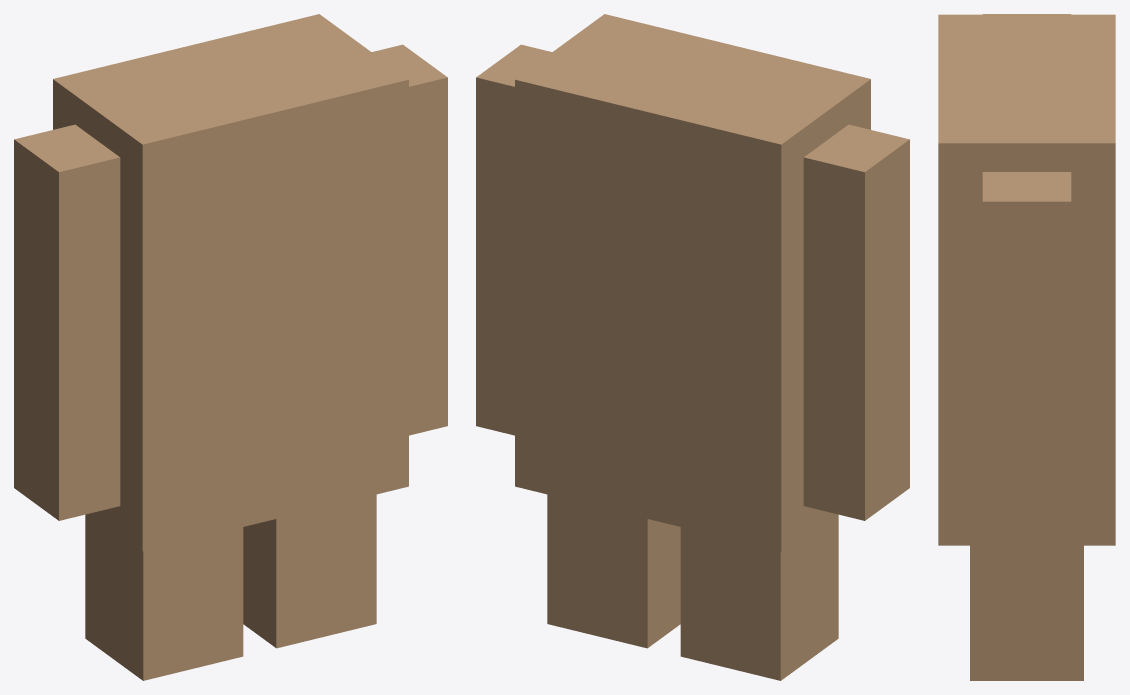
Rendered from firefighter_turnout.glb.
3 views of the same model, side by side, from view 1: azimuth 30°, elevation 25°; view 2: azimuth 150°, elevation 25°; view 3: azimuth 270°, elevation 25° (orthographic).
Parts seen in each view (by area): view 1: garment, sleeve_l, leg_l, leg_r, sleeve_r; view 2: garment, sleeve_l, leg_l, leg_r, sleeve_r; view 3: garment, sleeve_r, leg_r.
Boxes of the visible parts, x1,y1,x2,y2 form: garment: [53, 14, 408, 551]; sleeve_l: [14, 124, 120, 520]; leg_l: [85, 513, 243, 680]; leg_r: [243, 494, 376, 648]; sleeve_r: [372, 44, 447, 435]; garment: [515, 14, 870, 551]; sleeve_l: [803, 124, 909, 520]; leg_l: [680, 513, 838, 680]; leg_r: [547, 494, 680, 648]; sleeve_r: [476, 44, 551, 435]; garment: [938, 14, 1115, 545]; sleeve_r: [982, 172, 1071, 546]; leg_r: [970, 545, 1083, 680].
Bounding box in the file's own units: 0.7001 × 0.95 × 0.2798.
